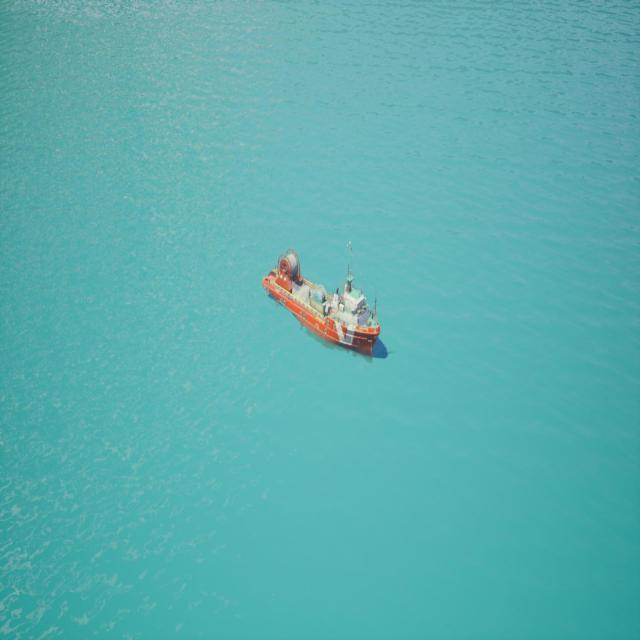tug boat: (243, 210, 410, 392)
